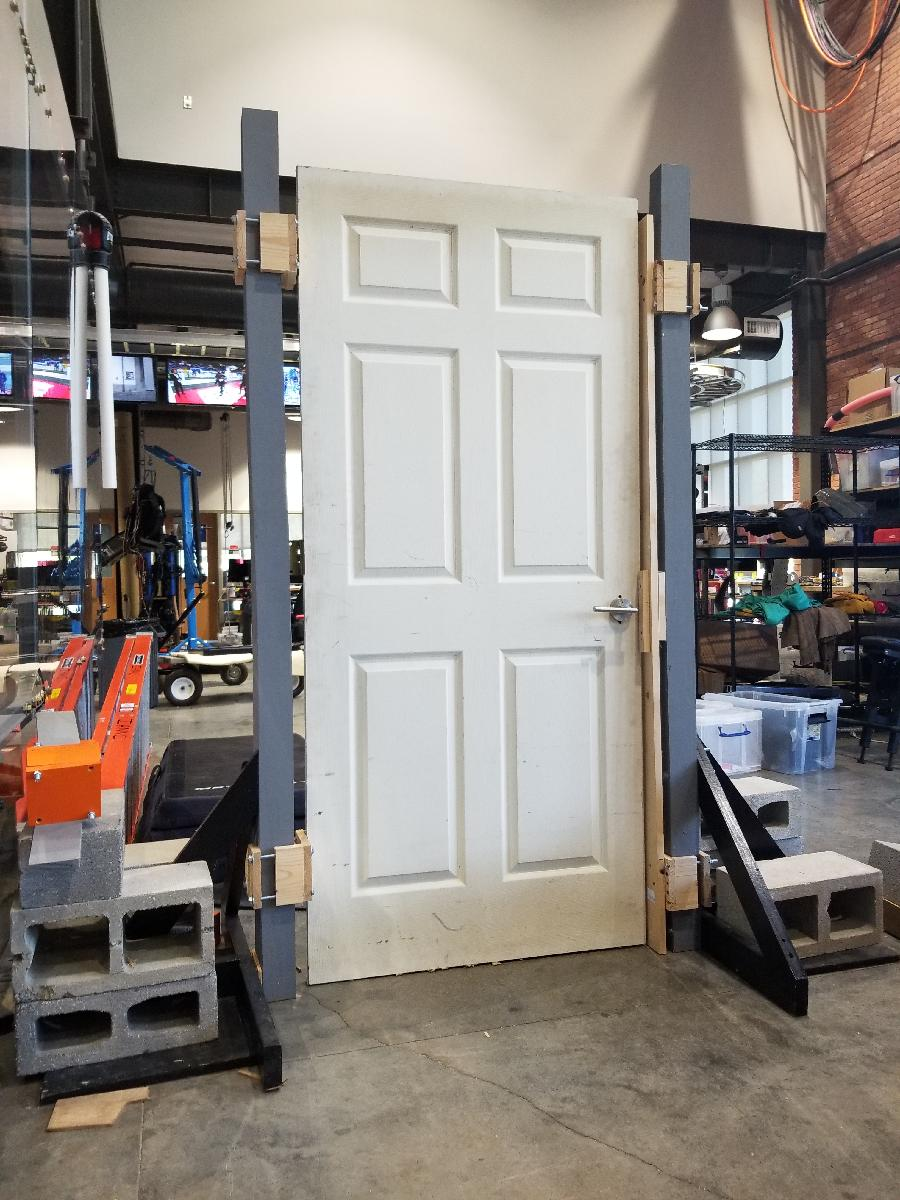door: (290, 162, 653, 994)
doorHandle: (591, 592, 646, 629)
